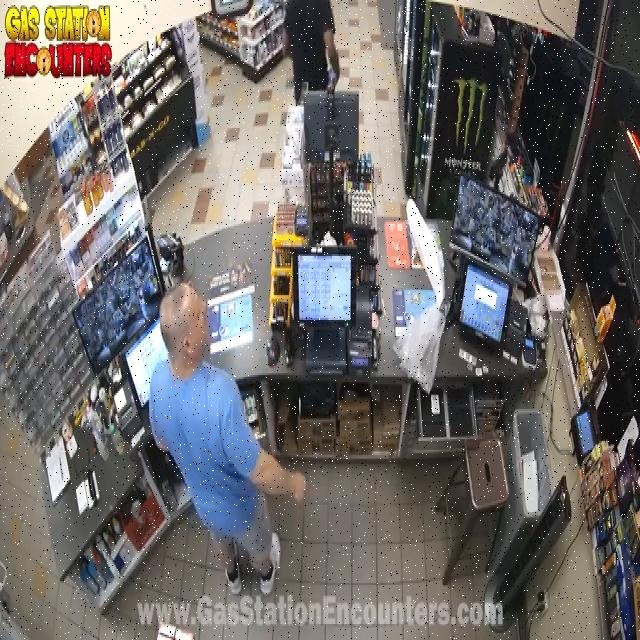hands: (250, 452, 304, 500)
person: (149, 283, 305, 594), (283, 0, 339, 101)
